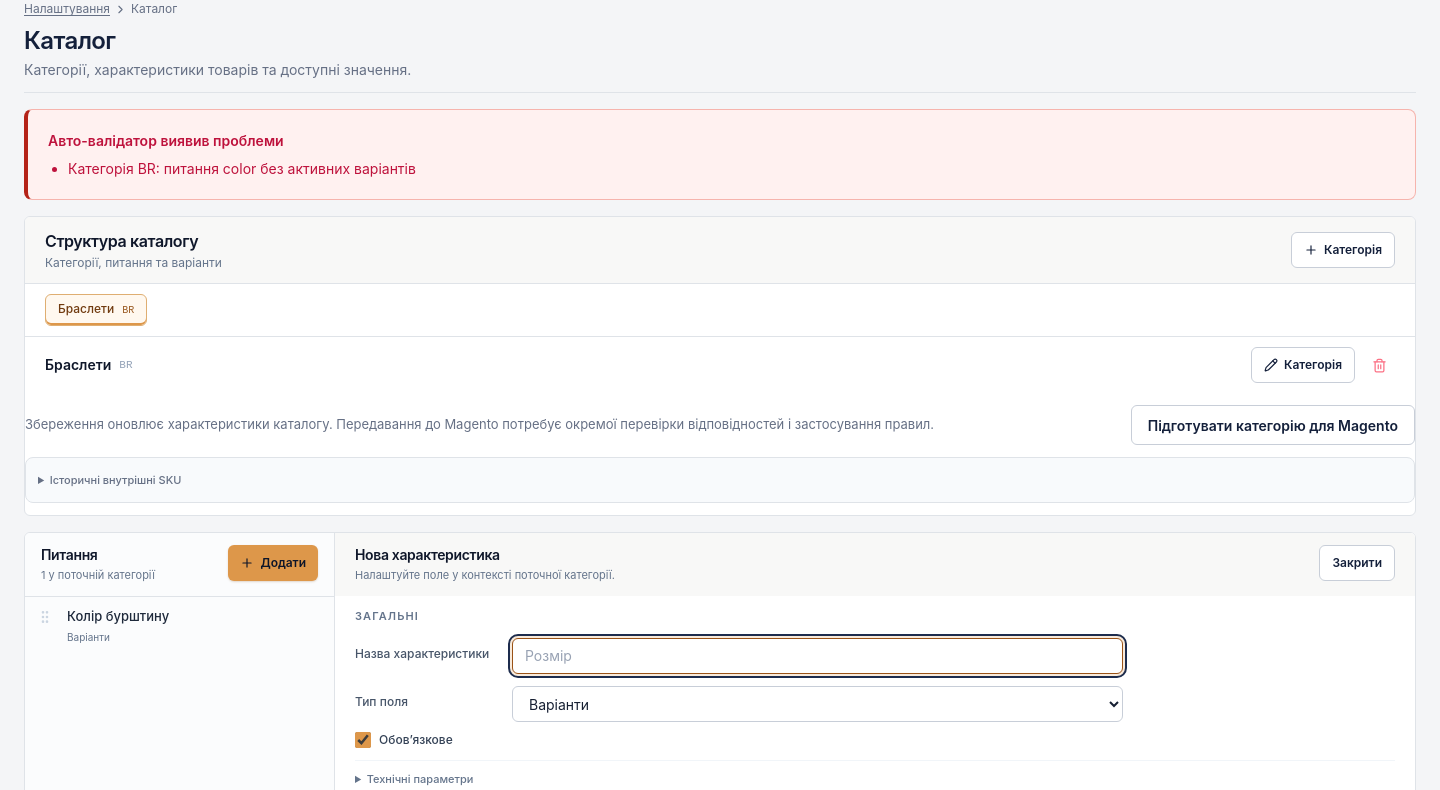
Test case: selects the authoritative created question so values and its exact Magento handoff are immediately reachable
Type "Форма прикраси" into the field labelled "Назва характеристики" at (818, 656), box [512,638,1123,674]
(page scrolled)
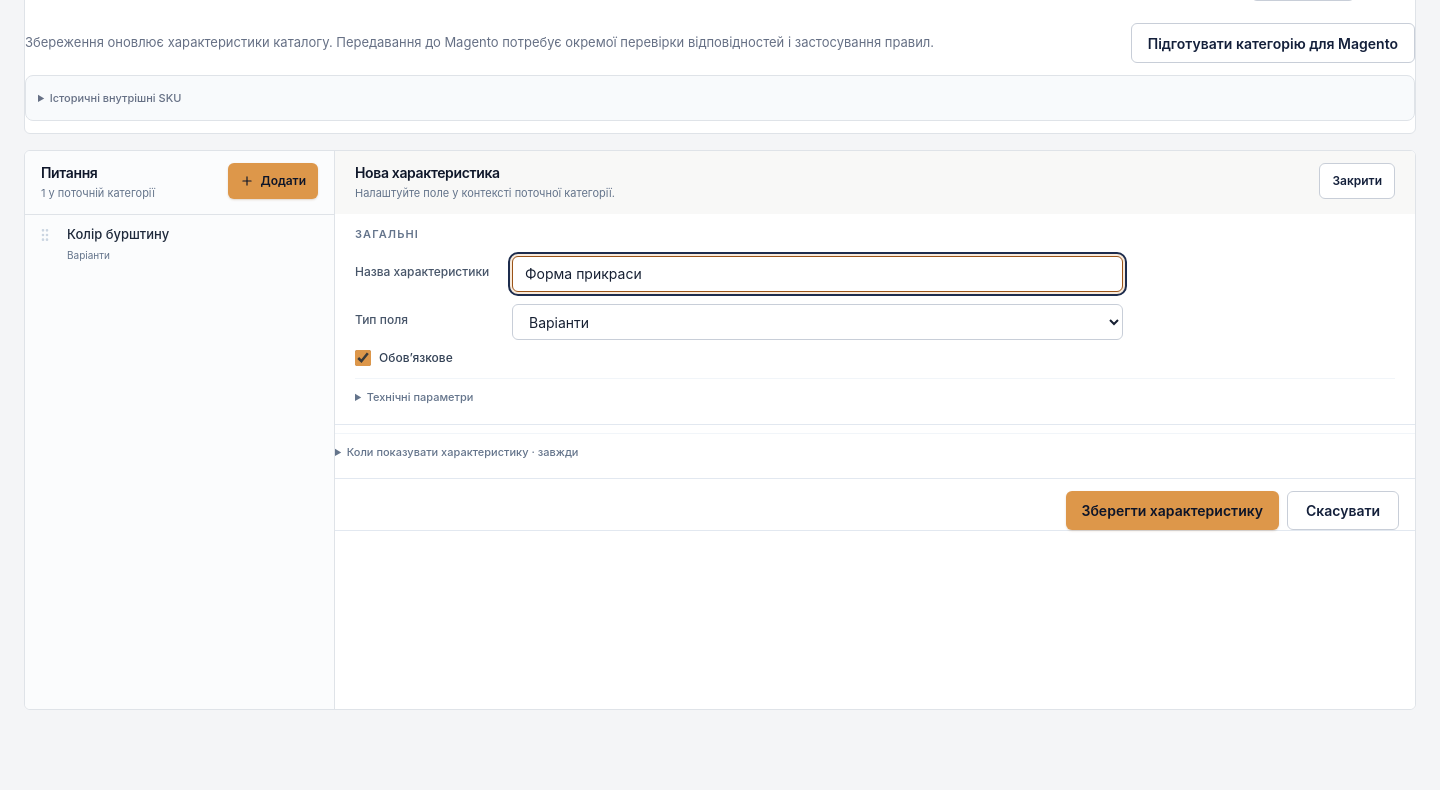
Click the button "Зберегти характеристику" at (1172, 510), box [1066,491,1279,530]
(page scrolled)
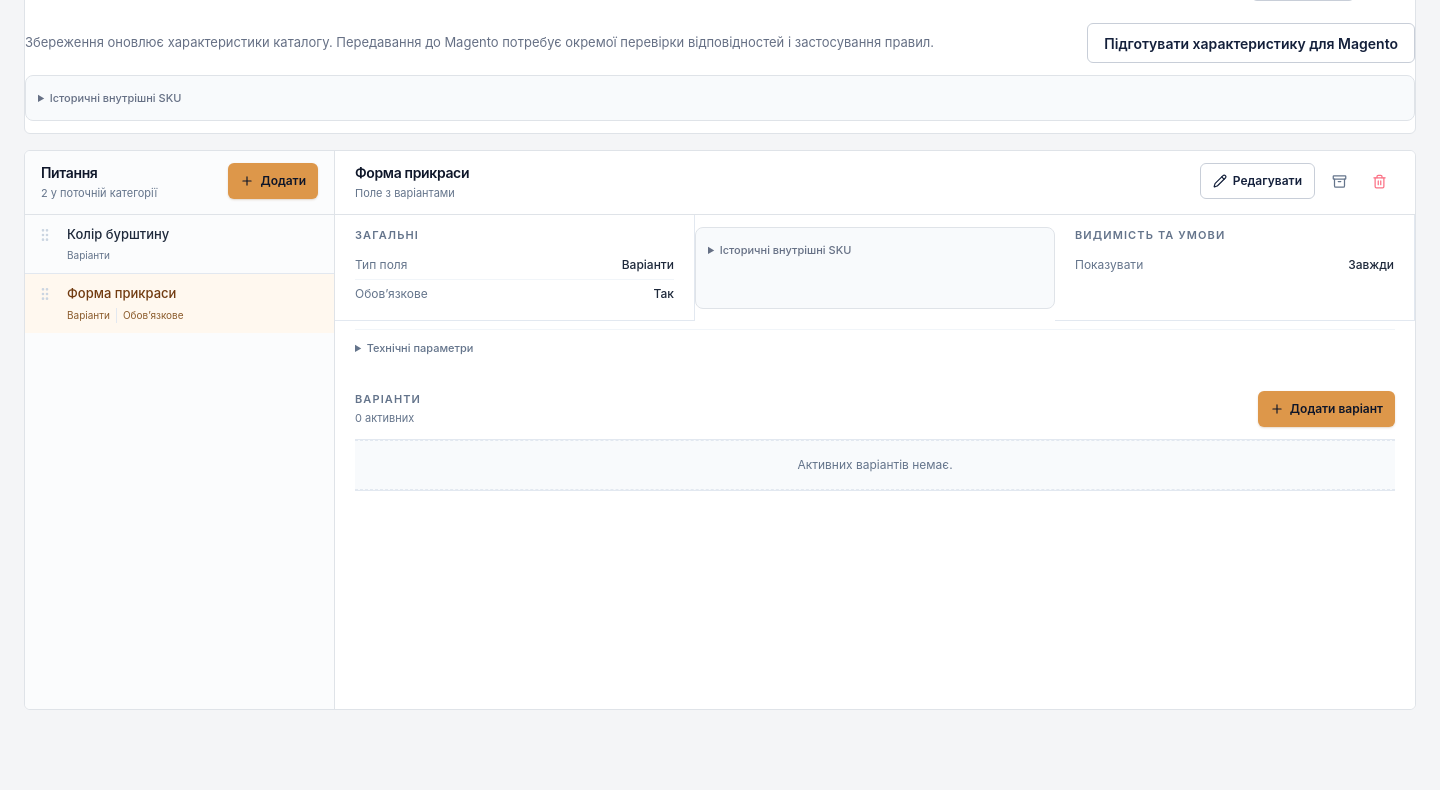
Check: the button "Додати варіант" is enabled, box [1258,390,1395,426]
Check: the heading "Форма прикраси" is shown, box [355,163,469,183]
Check: the text "Назва характеристики" is gone
